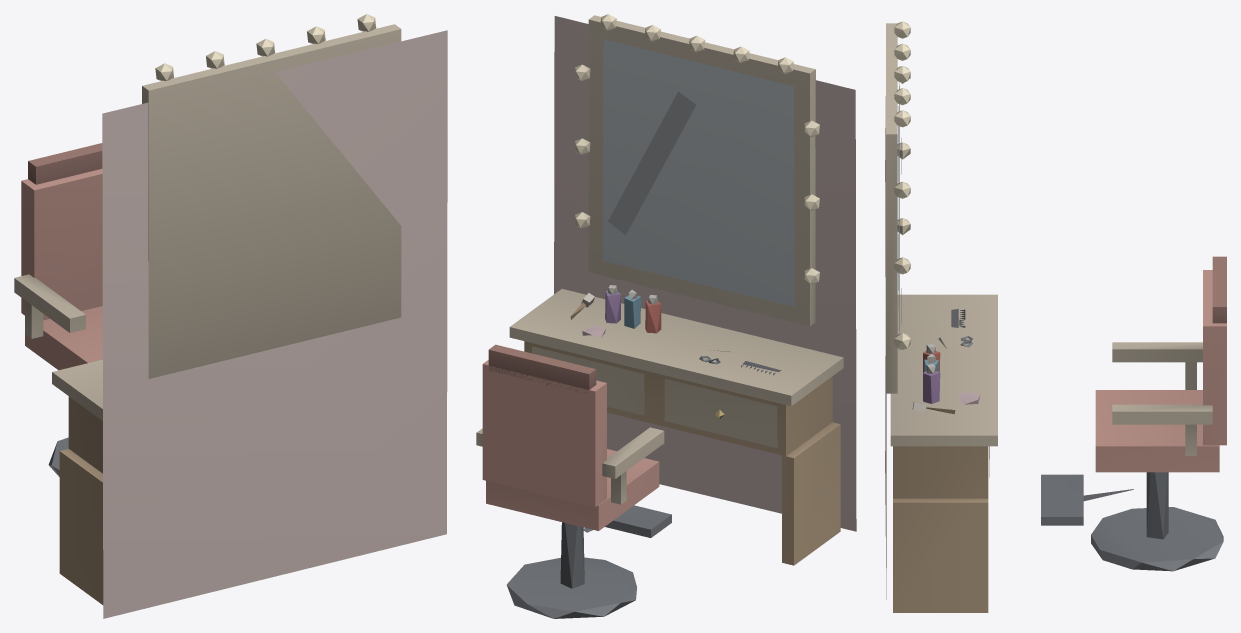
The model's file is wear_vanity_low.glb.
The picture shows the model from 3 angles, left to right: view 1: azimuth 30°, elevation 25°; view 2: azimuth 150°, elevation 25°; view 3: azimuth 270°, elevation 25°; orthographic projection. The views are drawn at different scales.
Visible parts, largest first — view 1: wear.vanity; view 2: wear.vanity; view 3: wear.vanity.
Boxes of the visible parts, x1,y1,x2,y2 form: wear.vanity: (14,14,447,618); wear.vanity: (476,14,856,618); wear.vanity: (885,21,1226,612).
Size of the model in its own units: 1.5 by 2.21 by 1.43.
